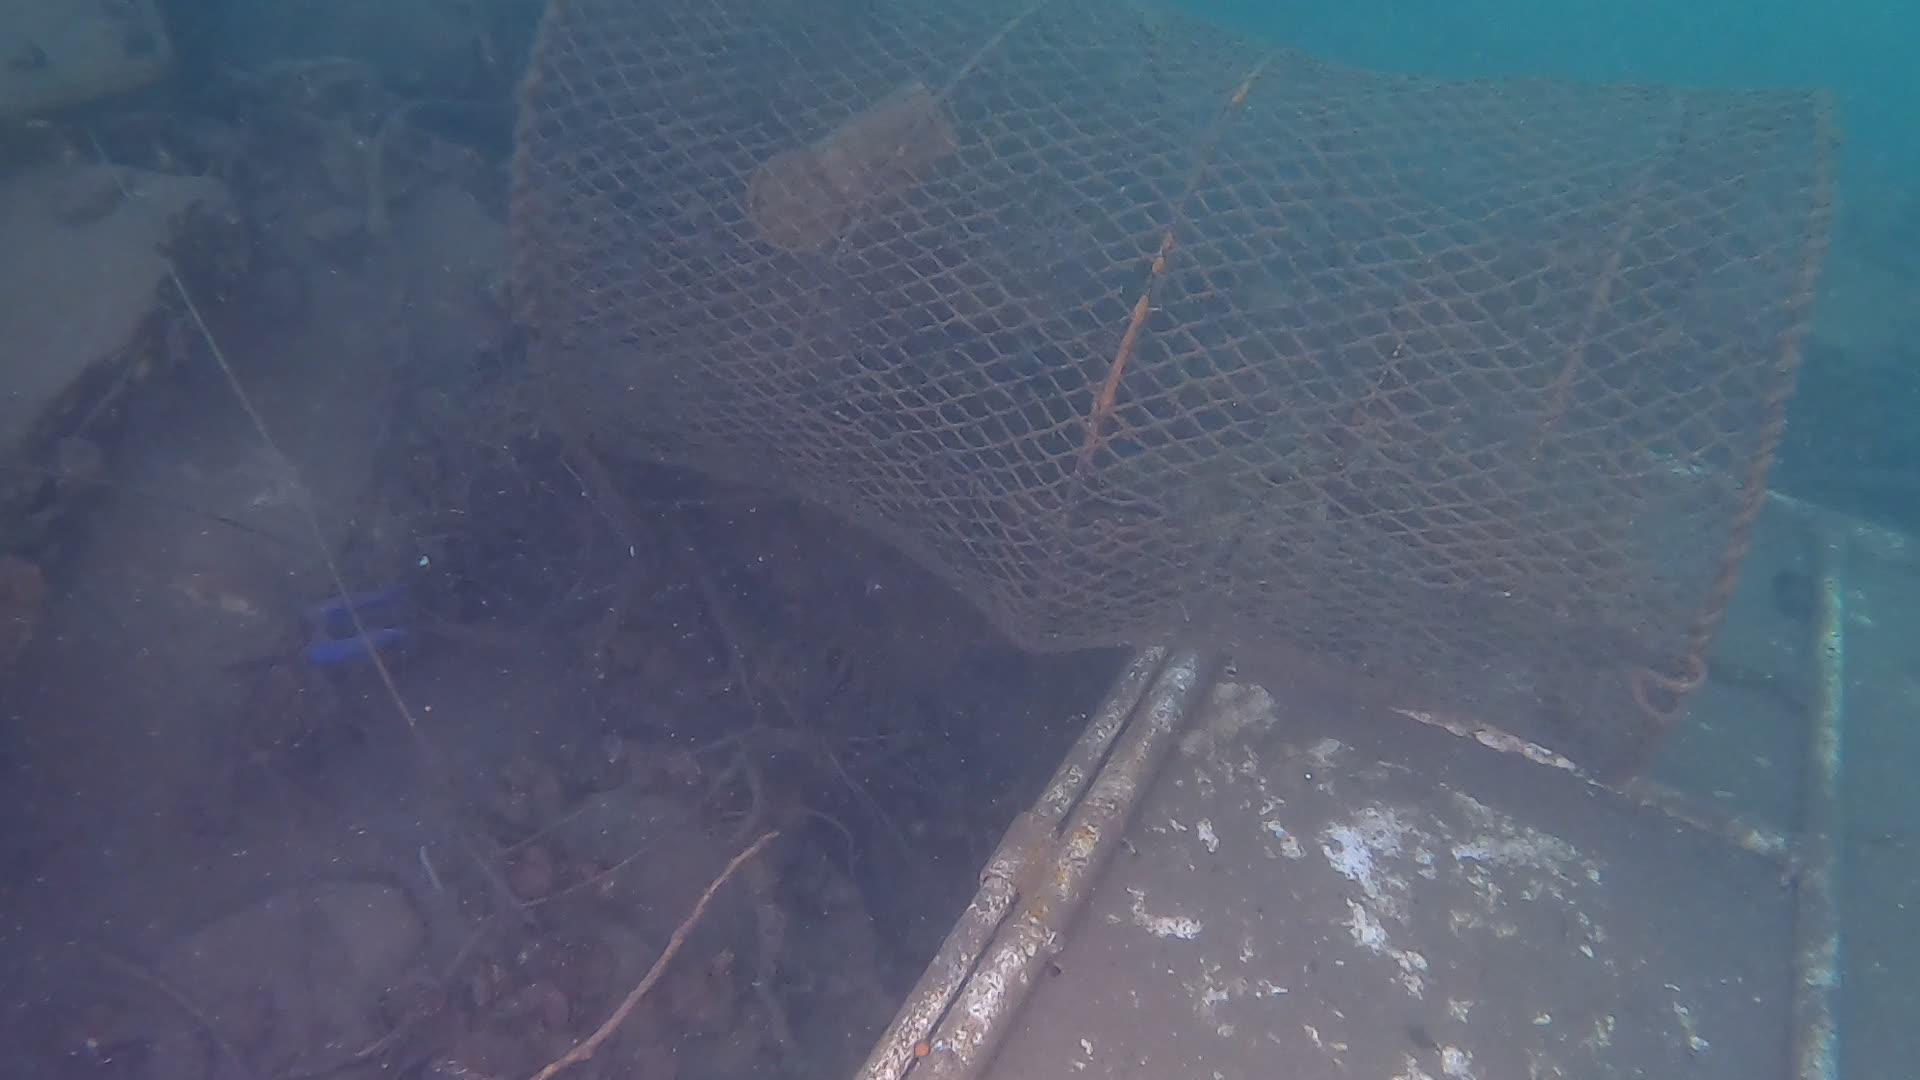spring fish trap: (526, 0, 1826, 785)
